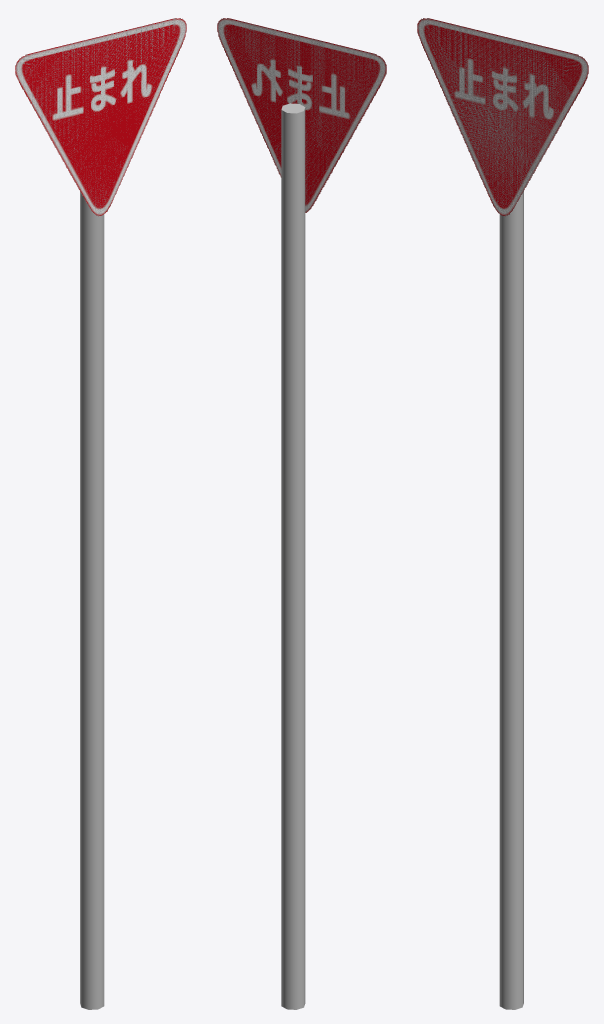
Rendered from road_sign_stop.fbx.
The picture shows the model from 3 angles, left to right: view 1: azimuth 30°, elevation 25°; view 2: azimuth 150°, elevation 25°; view 3: azimuth 330°, elevation 25°; orthographic projection.
Parts seen in each view (by area): view 1: stop; view 2: stop; view 3: stop.
Boxes of the visible parts, x1,y1,x2,y2 form: stop: (15,18,186,1009); stop: (217,18,386,1009); stop: (417,18,588,1009).
Bounding box in the file's own units: 80 × 430 × 12.
